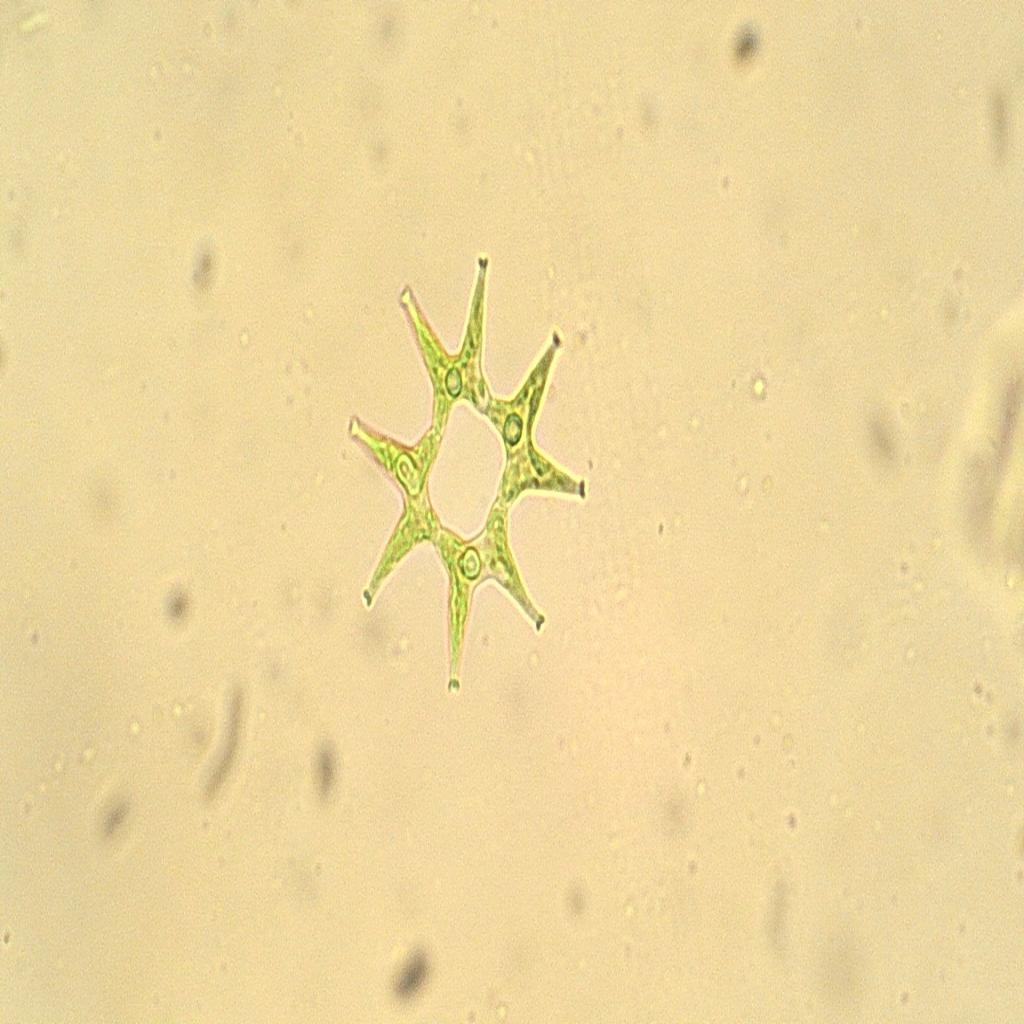Pediastrum_CO: (328, 242, 607, 712)
